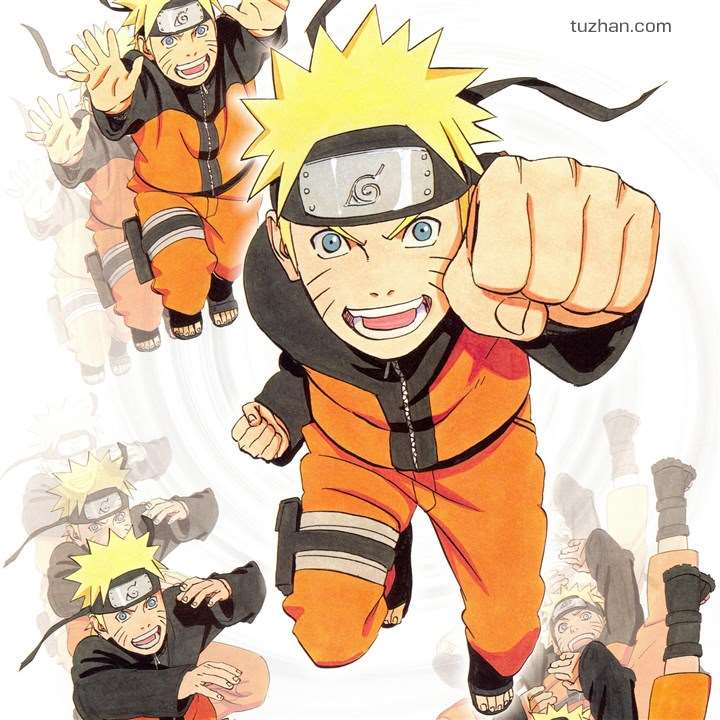naruto: (252, 121, 479, 367), (85, 569, 177, 658), (135, 4, 227, 91), (546, 587, 609, 653), (67, 492, 135, 546)
